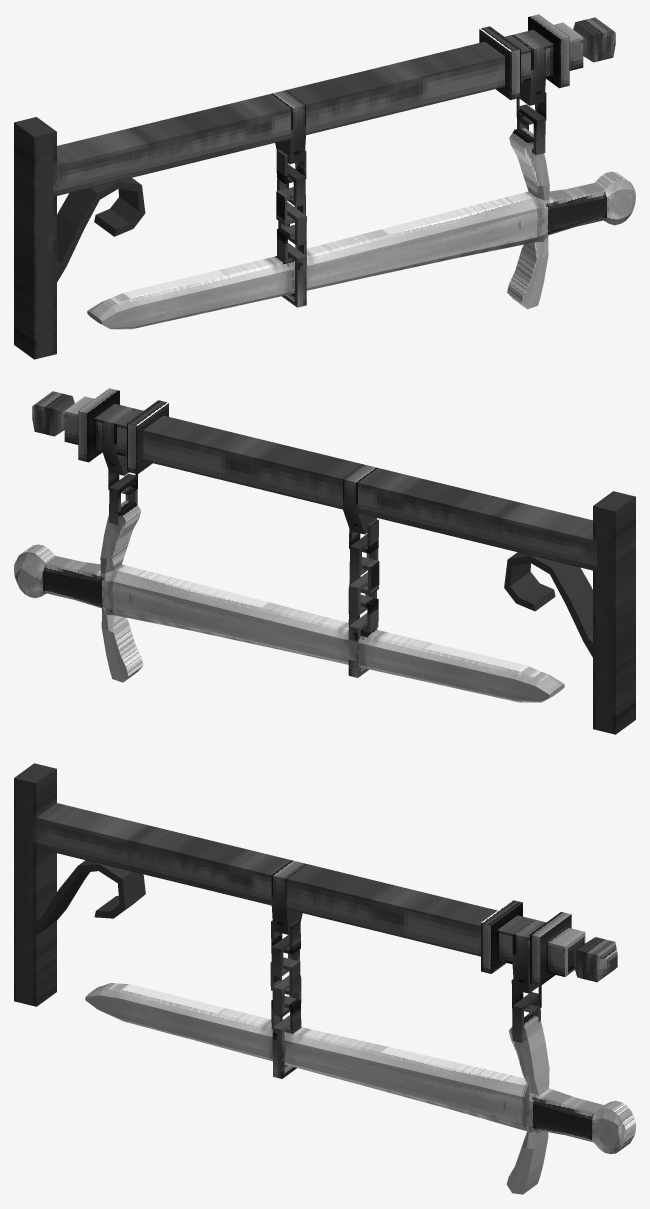
The model's file is sign_360x06.gltf.
The picture shows the model from 3 angles, top to bottom: view 1: azimuth 30°, elevation 25°; view 2: azimuth 150°, elevation 25°; view 3: azimuth 330°, elevation 25°; orthographic projection.
Parts seen in each view (by area): view 1: sign_360x06; view 2: sign_360x06; view 3: sign_360x06.
Part boxes in pixels (x1,y1,x2,y2): sign_360x06: (14,14,635,359); sign_360x06: (14,388,635,734); sign_360x06: (14,763,635,1194).
Bounding box in the file's own units: 3.57 × 1.65 × 0.3169.
1 material, 1 textured.
